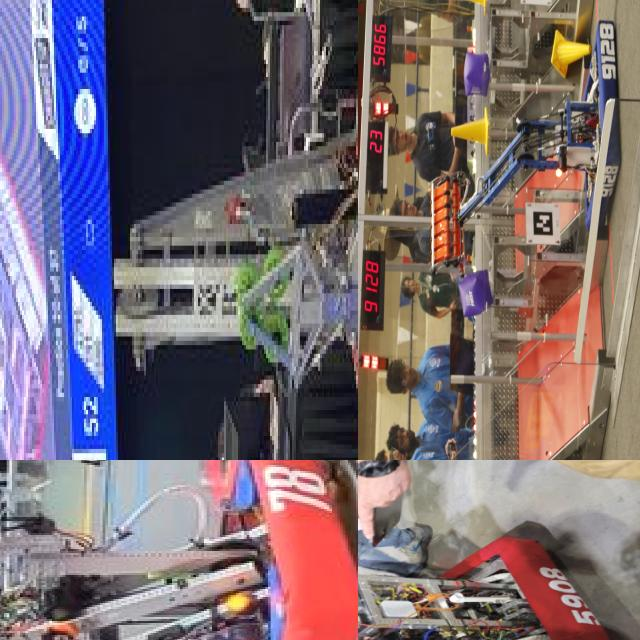FRC-Robots: (76, 0, 358, 460), (418, 1, 627, 370), (0, 460, 358, 640), (358, 530, 617, 640)
